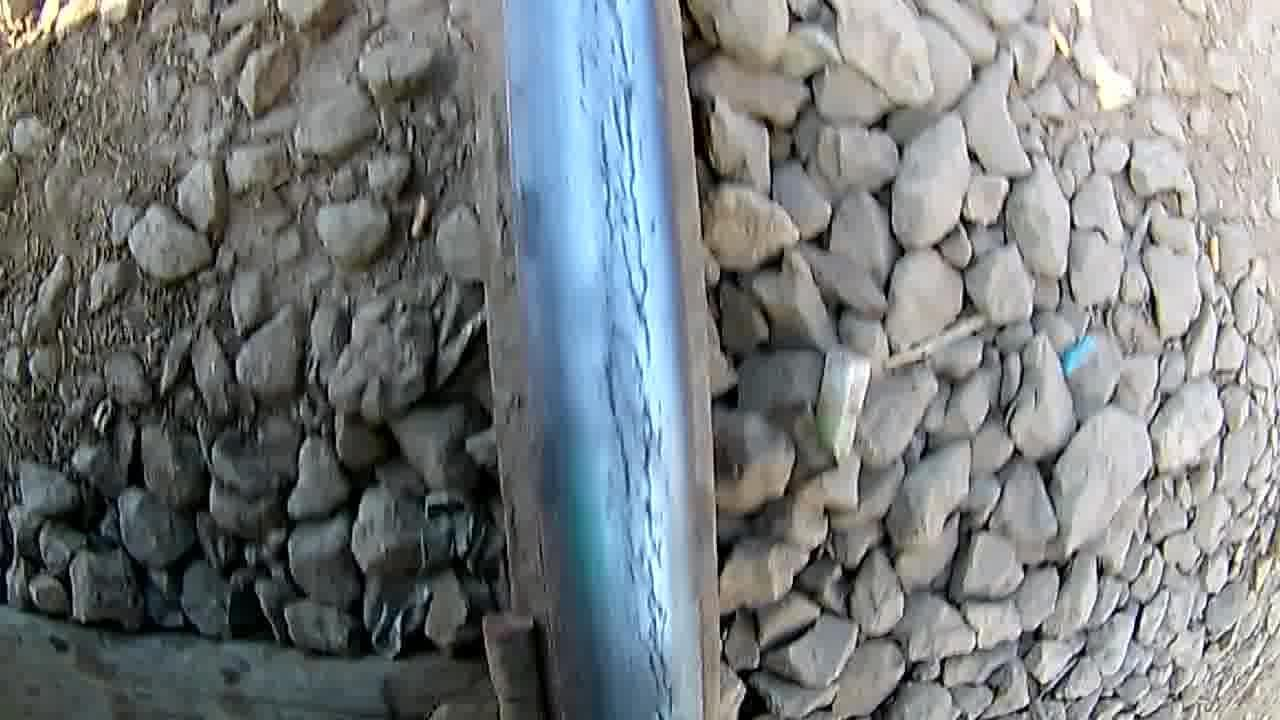crack: (576, 3, 676, 720)
